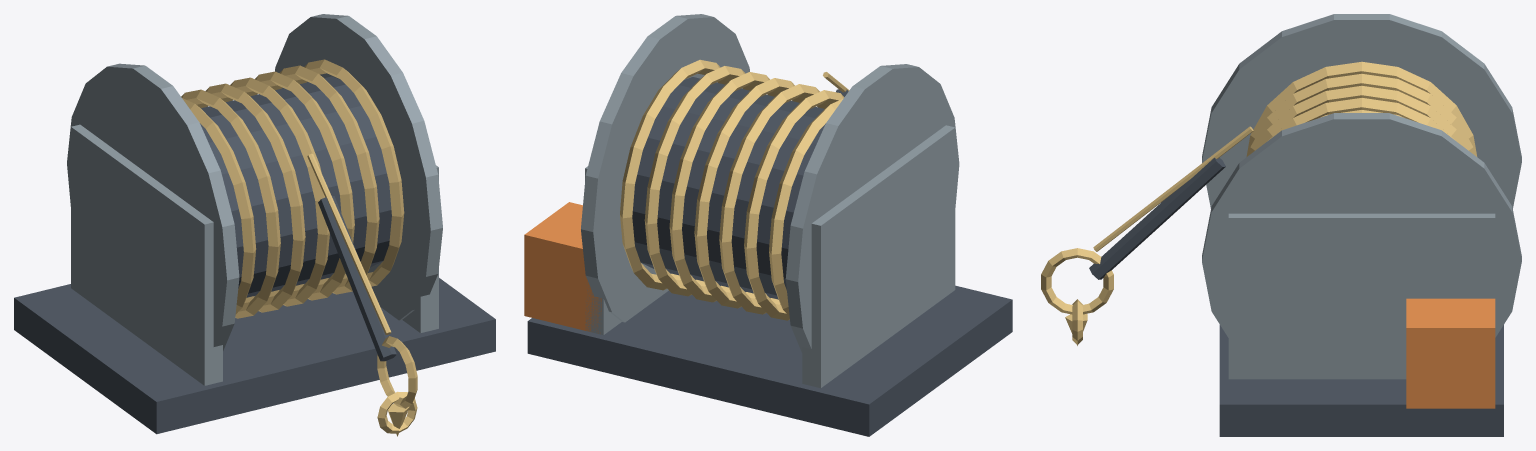
File: sub_tether_winch.glb
3 views of the same model, side by side, from view 1: azimuth 30°, elevation 25°; view 2: azimuth 150°, elevation 25°; view 3: azimuth 270°, elevation 25° (orthographic).
Visible parts, largest first — view 1: sub_tether_winch_hull, sub_tether_winch_dark, sub_tether_winch_brass; view 2: sub_tether_winch_hull, sub_tether_winch_dark, sub_tether_winch_brass, sub_tether_winch_accent; view 3: sub_tether_winch_hull, sub_tether_winch_dark, sub_tether_winch_brass, sub_tether_winch_accent.
Part boxes in pixels (left/top/right/bottom): sub_tether_winch_hull: left=67, top=14, right=442, bottom=385; sub_tether_winch_dark: left=14, top=76, right=495, bottom=434; sub_tether_winch_brass: left=181, top=59, right=417, bottom=436; sub_tether_winch_hull: left=581, top=14, right=959, bottom=388; sub_tether_winch_dark: left=527, top=77, right=1012, bottom=436; sub_tether_winch_brass: left=620, top=59, right=849, bottom=320; sub_tether_winch_accent: left=524, top=202, right=601, bottom=333; sub_tether_winch_hull: left=1202, top=14, right=1521, bottom=379; sub_tether_winch_dark: left=1089, top=157, right=1503, bottom=436; sub_tether_winch_brass: left=1041, top=61, right=1477, bottom=345; sub_tether_winch_accent: left=1406, top=298, right=1495, bottom=408.
Bounding box in the file's own units: 2.25 × 1.79 × 2.7.
